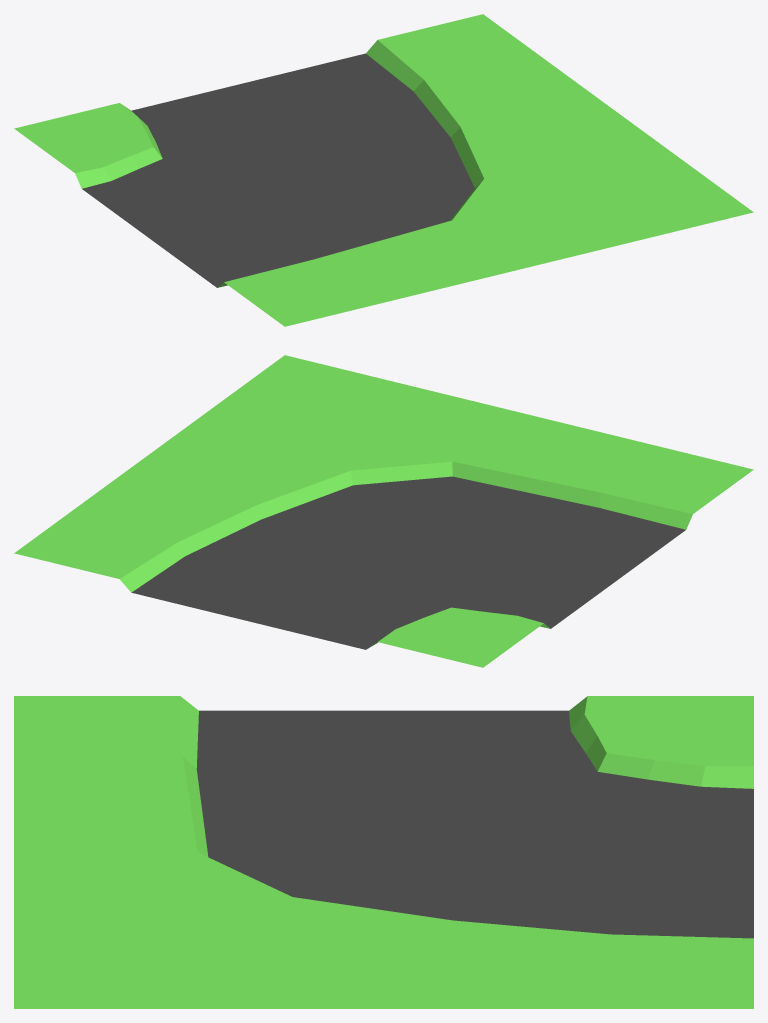
File: CurvedRoad.glb
3 views of the same model, one above another, from view 1: azimuth 30°, elevation 25°; view 2: azimuth 150°, elevation 25°; view 3: azimuth 270°, elevation 25° (orthographic). The views are drawn at different scales.
Visible parts, largest first — view 1: CurvedRoad; view 2: CurvedRoad; view 3: CurvedRoad.
Boxes of the visible parts, x1=… form: CurvedRoad: x1=14, y1=14, x2=753, y2=326; CurvedRoad: x1=14, y1=355, x2=753, y2=667; CurvedRoad: x1=14, y1=696, x2=753, y2=1008.
Bounding box in the file's own units: 1 × 0.0218 × 1.
